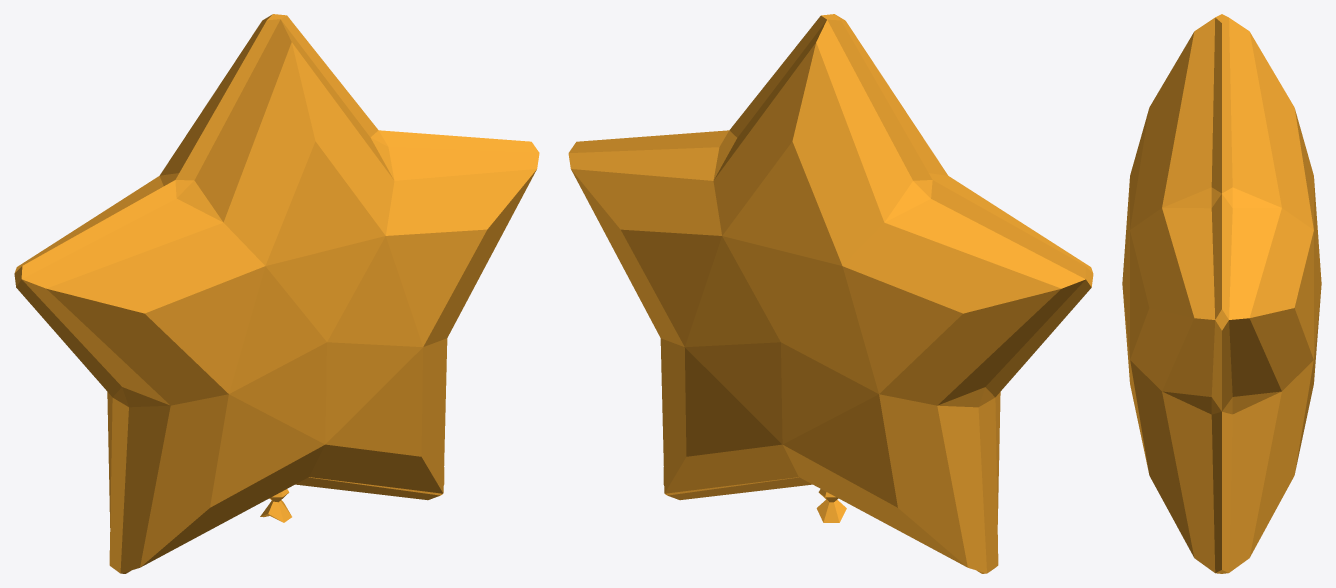
File: SM_Balloon_Star_Silver.fbx
The picture shows the model from 3 angles, left to right: view 1: azimuth 30°, elevation 25°; view 2: azimuth 150°, elevation 25°; view 3: azimuth 270°, elevation 25°; orthographic projection. The views are drawn at different scales.
Visible parts, largest first — view 1: balloon-star-silver; view 2: balloon-star-silver; view 3: balloon-star-silver.
Boxes of the visible parts, bbox=[...] form: balloon-star-silver: bbox=[14, 14, 539, 573]; balloon-star-silver: bbox=[568, 14, 1093, 573]; balloon-star-silver: bbox=[1122, 14, 1321, 573].
Size of the model in its own units: 0.5476 by 0.5221 by 0.1934.
